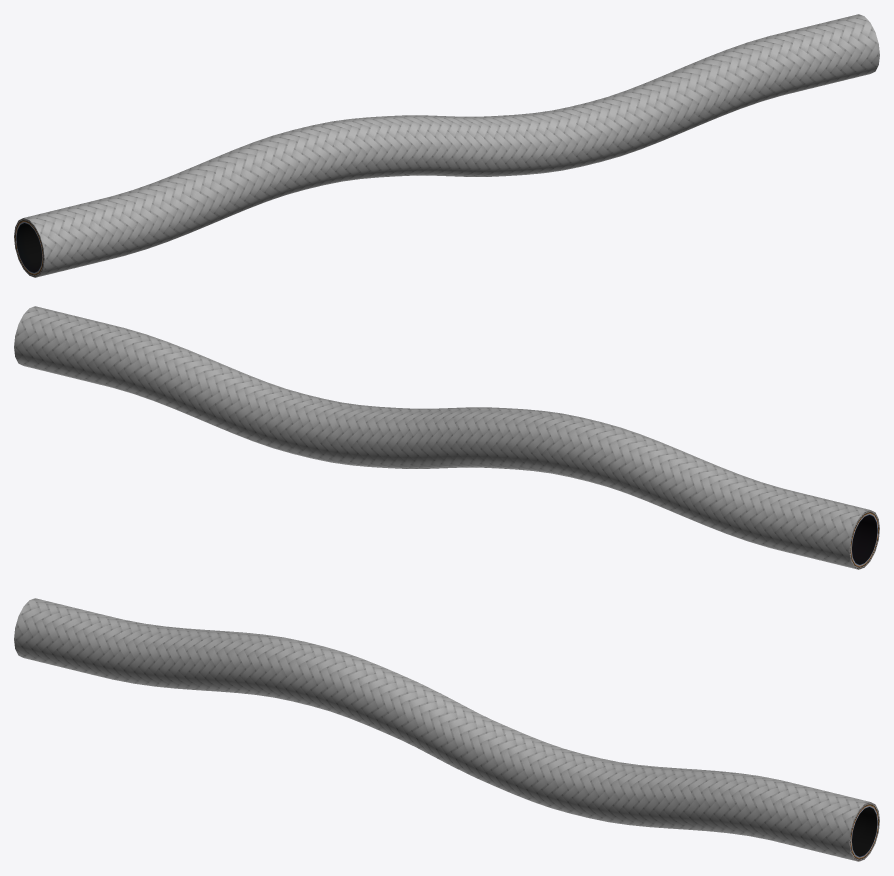
3 views of the same model, one above another, from view 1: azimuth 30°, elevation 25°; view 2: azimuth 150°, elevation 25°; view 3: azimuth 330°, elevation 25° (orthographic).
Visible parts, largest first — view 1: ProBlack_SB_SS-16; view 2: ProBlack_SB_SS-16; view 3: ProBlack_SB_SS-16.
Part boxes in pixels (x1,y1,x2,y2): ProBlack_SB_SS-16: [14, 14, 879, 277]; ProBlack_SB_SS-16: [14, 306, 879, 569]; ProBlack_SB_SS-16: [14, 598, 879, 861].
Bounding box in the file's own units: 0.5 × 0.0571 × 0.0318.
2 materials, 2 textured.
